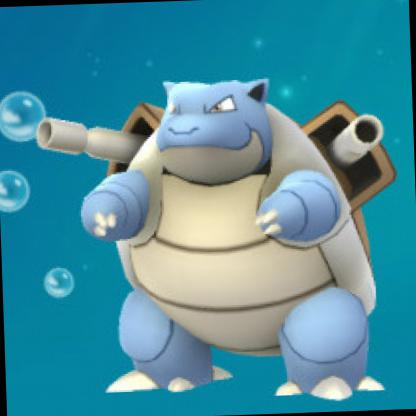Blastoise: (1, 12, 416, 416)
